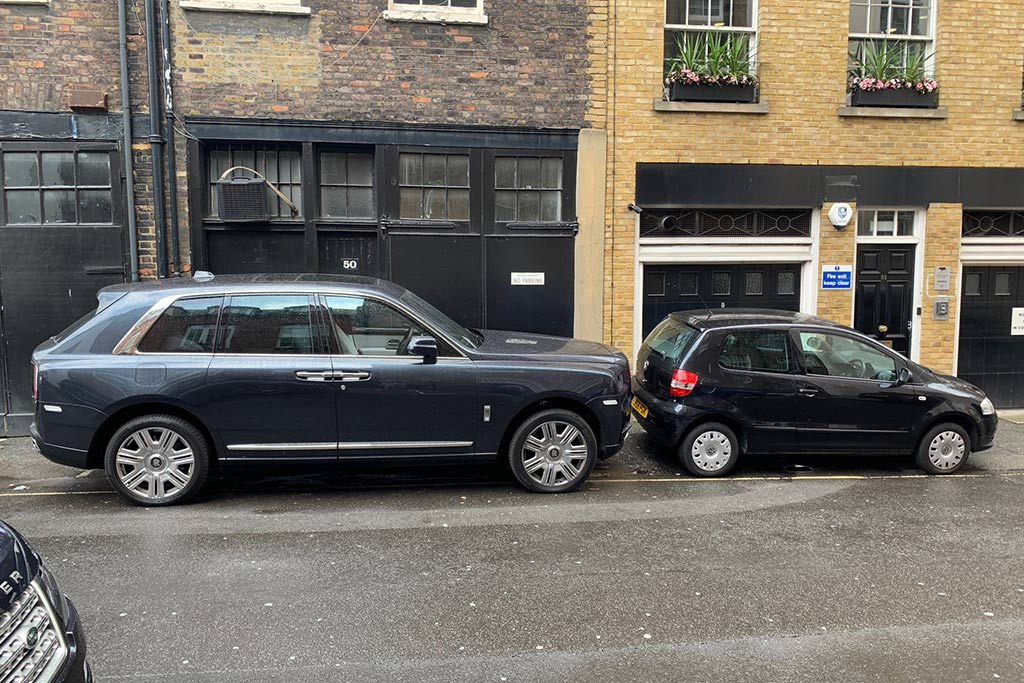car: (29, 268, 632, 510), (628, 309, 998, 487)
